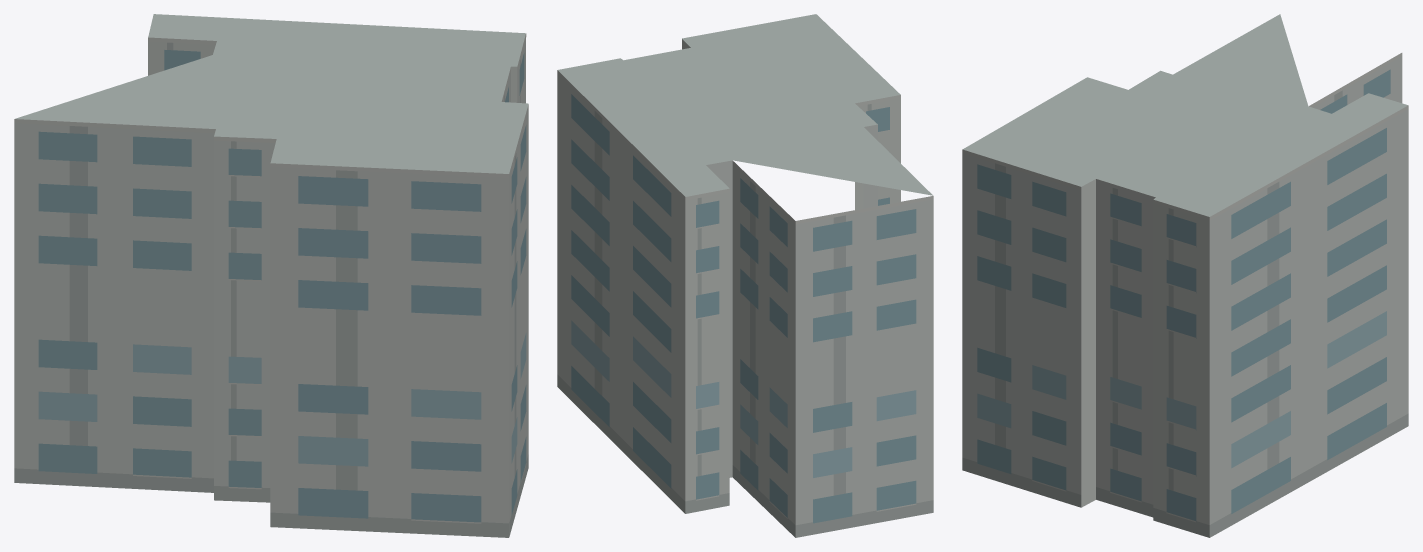
File: survey-upis-32631557.glb
3 renders of one model, left to right at view 1: azimuth 30°, elevation 25°; view 2: azimuth 150°, elevation 25°; view 3: azimuth 270°, elevation 25°, orthographic. The views are drawn at different scales.
Visible parts, largest first — view 1: survey-upis-32631557.tmp; view 2: survey-upis-32631557.tmp; view 3: survey-upis-32631557.tmp.
Boxes of the visible parts, x1,y1,x2,y2 form: survey-upis-32631557.tmp: [14, 14, 528, 537]; survey-upis-32631557.tmp: [557, 14, 933, 537]; survey-upis-32631557.tmp: [962, 14, 1408, 537].
Size of the model in its own units: 29.32 by 21.6 by 27.22.
